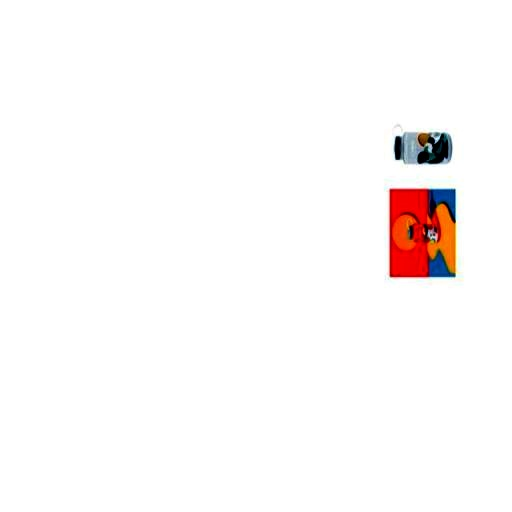bottle: (391, 124, 454, 166), (404, 216, 440, 245)
